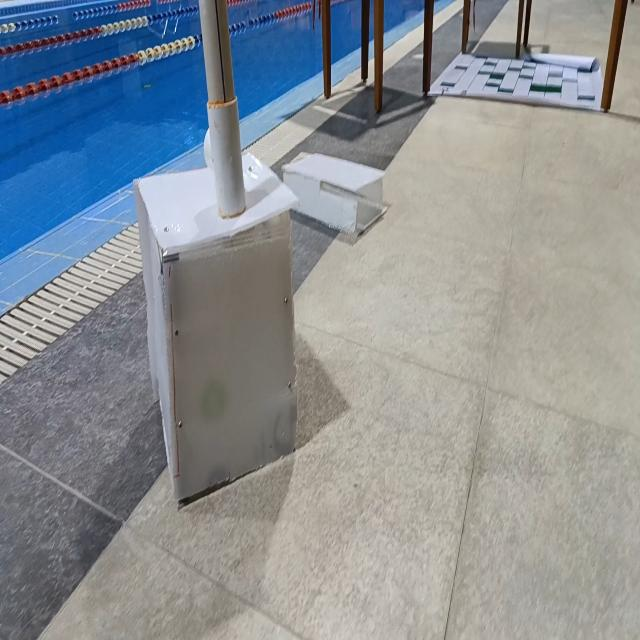Cube: (133, 150, 300, 502)
Cuboid: (281, 149, 386, 236)
